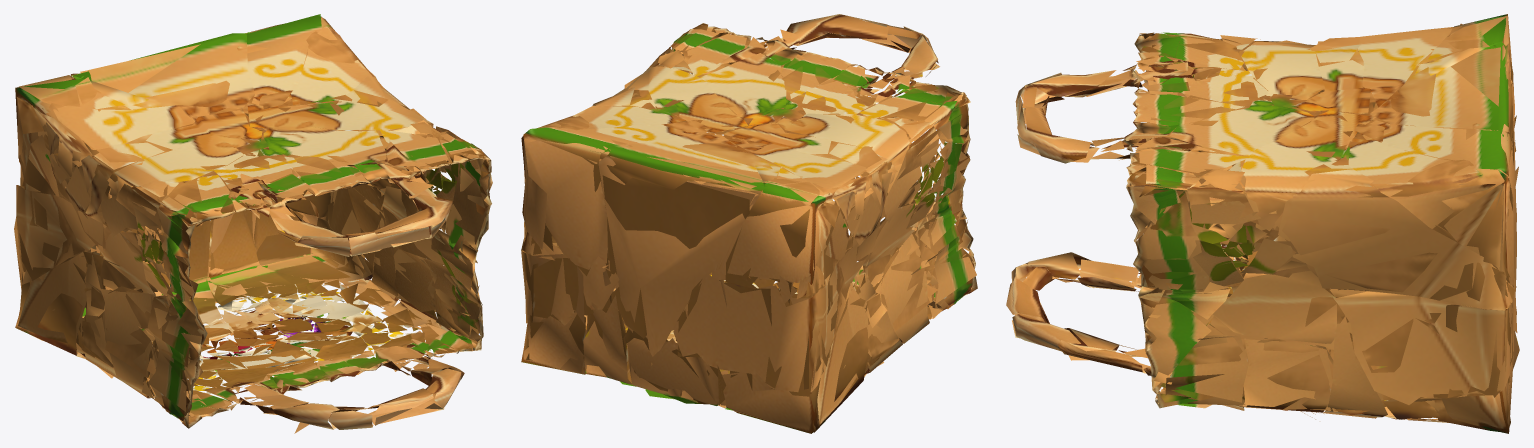
Rendered from grocery_bag_v1.glb.
The picture shows the model from 3 angles, left to right: view 1: azimuth 30°, elevation 25°; view 2: azimuth 150°, elevation 25°; view 3: azimuth 270°, elevation 25°; orthographic projection. The views are drawn at different scales.
Visible parts, largest first — view 1: Mesh_0; view 2: Mesh_0; view 3: Mesh_0.
Boxes of the visible parts, x1,y1,x2,y2 form: Mesh_0: (14, 14, 492, 433); Mesh_0: (521, 14, 977, 433); Mesh_0: (1006, 14, 1519, 433).
Bounding box in the file's own units: 1.5 × 1.14 × 1.93.
1 material, 1 textured.
